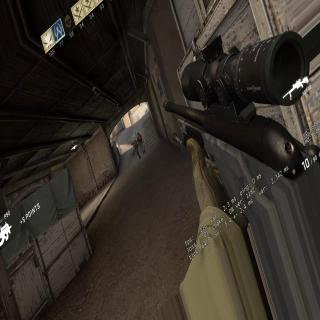T-Body: (137, 132, 146, 155)
T-Head: (137, 133, 140, 137)
